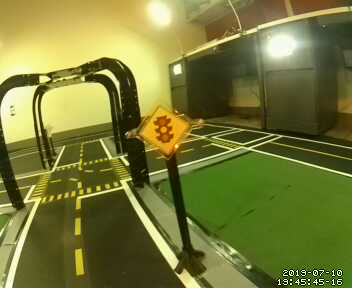Traffic light sign: (136, 104, 191, 160)
